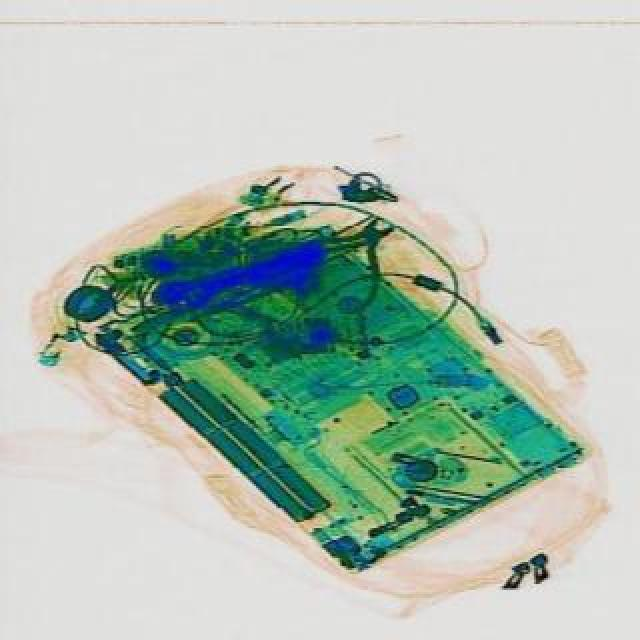wrench: (278, 188, 422, 320)
